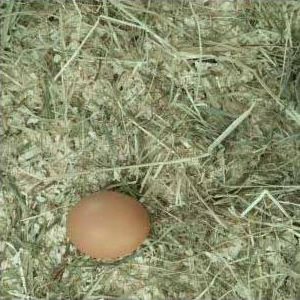egg: (67, 192, 151, 260)
